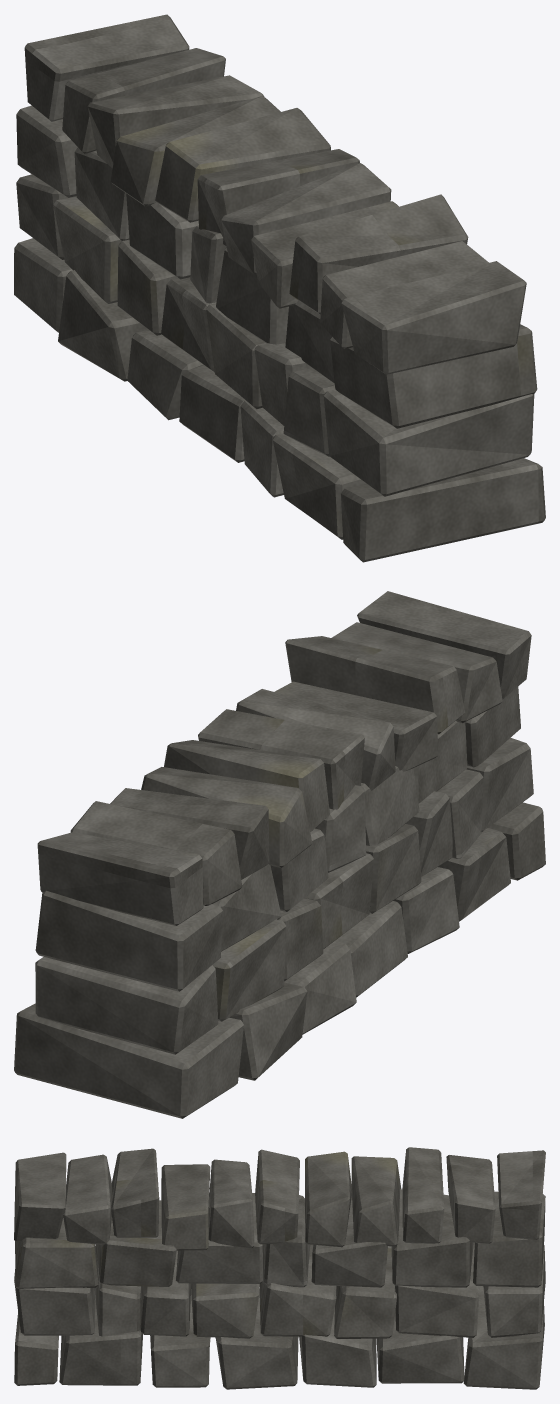
Rendered from VergeWall_A_LOD1.fbx.
3 views of the same model, one above another, from view 1: azimuth 30°, elevation 25°; view 2: azimuth 150°, elevation 25°; view 3: azimuth 270°, elevation 25° (orthographic). The views are drawn at different scales.
Parts seen in each view (by area): view 1: VergeWall_A_LOD1; view 2: VergeWall_A_LOD1; view 3: VergeWall_A_LOD1.
Part boxes in pixels (x1,y1,x2,y2): VergeWall_A_LOD1: (14, 14, 545, 562); VergeWall_A_LOD1: (14, 591, 545, 1118); VergeWall_A_LOD1: (14, 1147, 545, 1389).
Size of the model in its own units: 0.7495 by 0.942 by 2.41.
